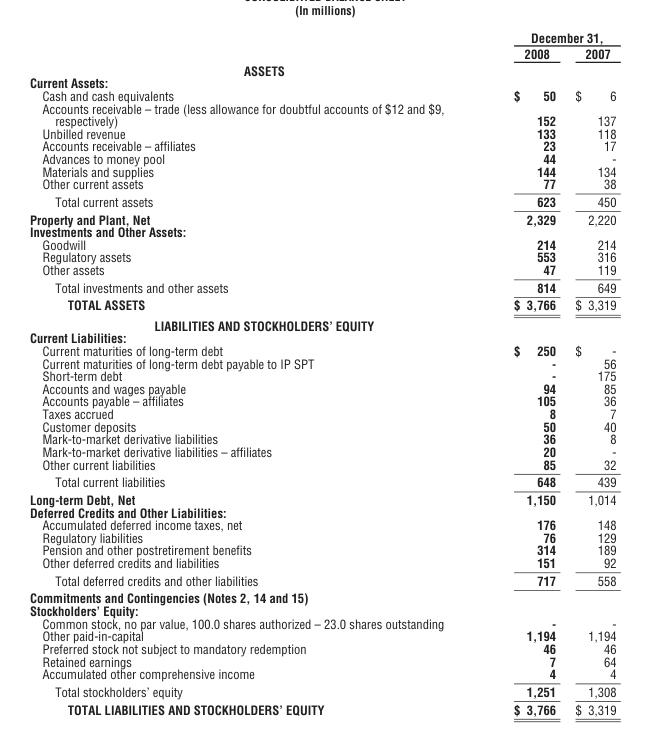table: (28, 29, 615, 716)
table column: (28, 29, 478, 716), (478, 29, 564, 716), (564, 29, 615, 716)
table column header: (28, 29, 615, 61)
table projected row header: (28, 314, 615, 331), (28, 588, 615, 604), (28, 61, 615, 76), (28, 505, 615, 518), (28, 76, 615, 88), (28, 225, 615, 237), (28, 331, 615, 343), (28, 604, 615, 616)
table row: (28, 101, 615, 126), (28, 295, 615, 314), (28, 192, 615, 210), (28, 472, 615, 490), (28, 278, 615, 295), (28, 314, 615, 331), (28, 571, 615, 588), (28, 682, 615, 699), (28, 699, 615, 716), (28, 29, 615, 45), (28, 45, 615, 61), (28, 588, 615, 604), (28, 61, 615, 76), (28, 177, 615, 192), (28, 210, 615, 225), (28, 263, 615, 278), (28, 457, 615, 472), (28, 490, 615, 505), (28, 556, 615, 571), (28, 667, 615, 682), (28, 88, 615, 101), (28, 126, 615, 139), (28, 139, 615, 152), (28, 164, 615, 177), (28, 237, 615, 250), (28, 250, 615, 263), (28, 343, 615, 356), (28, 356, 615, 369), (28, 381, 615, 394), (28, 394, 615, 407), (28, 419, 615, 432), (28, 444, 615, 457), (28, 505, 615, 518), (28, 530, 615, 543), (28, 543, 615, 556), (28, 616, 615, 629), (28, 641, 615, 654), (28, 654, 615, 667), (28, 76, 615, 88), (28, 152, 615, 164), (28, 225, 615, 237), (28, 331, 615, 343), (28, 369, 615, 381), (28, 407, 615, 419), (28, 432, 615, 444), (28, 518, 615, 530), (28, 604, 615, 616), (28, 629, 615, 641)
table spanning cell: (478, 29, 615, 45)
